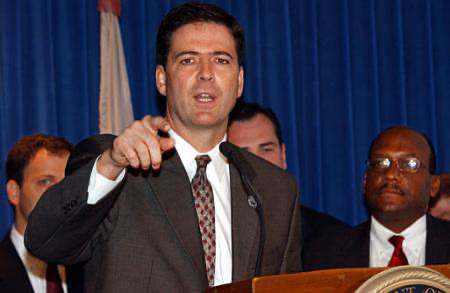Face: (164, 33, 238, 122)
